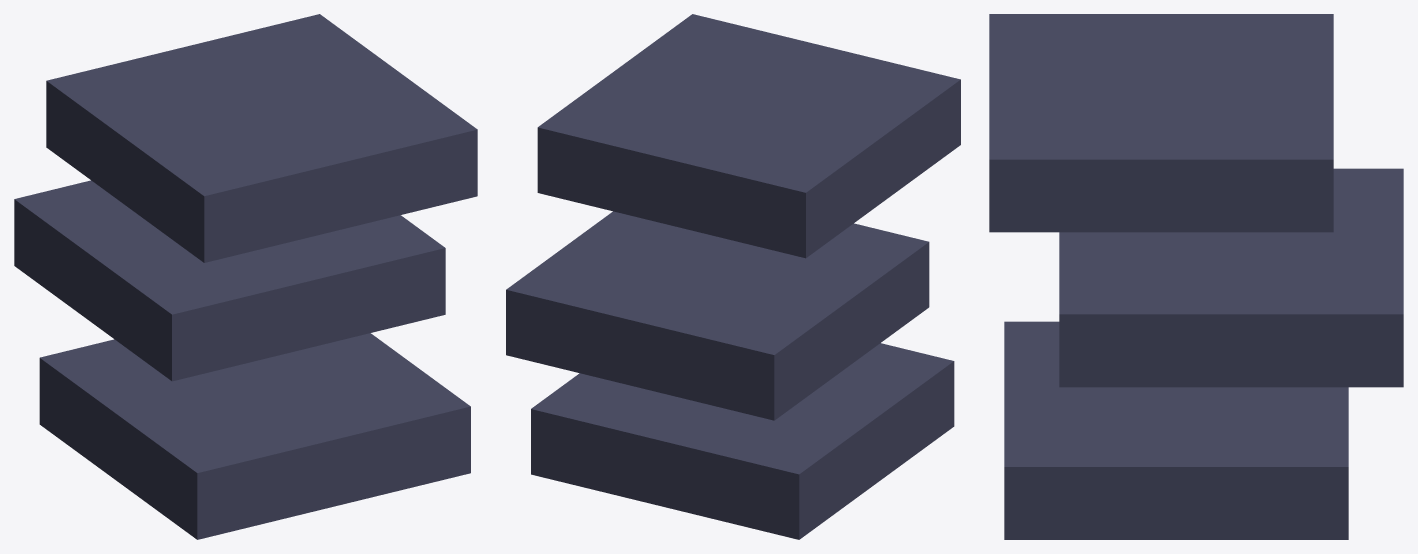
Rendered from Env_Bottom_Windows_01_2.fbx.
The picture shows the model from 3 angles, left to right: view 1: azimuth 30°, elevation 25°; view 2: azimuth 150°, elevation 25°; view 3: azimuth 270°, elevation 25°; orthographic projection. The views are drawn at different scales.
Parts seen in each view (by area): view 1: Env_Bottom_Windows_01_2; view 2: Env_Bottom_Windows_01_2; view 3: Env_Bottom_Windows_01_2.
Part boxes in pixels (box(x1,y1,x2,y2)): Env_Bottom_Windows_01_2: box(14, 14, 477, 539); Env_Bottom_Windows_01_2: box(506, 14, 960, 539); Env_Bottom_Windows_01_2: box(989, 14, 1403, 539).
Size of the model in its own units: 0.5818 by 0.7089 by 0.7001.
